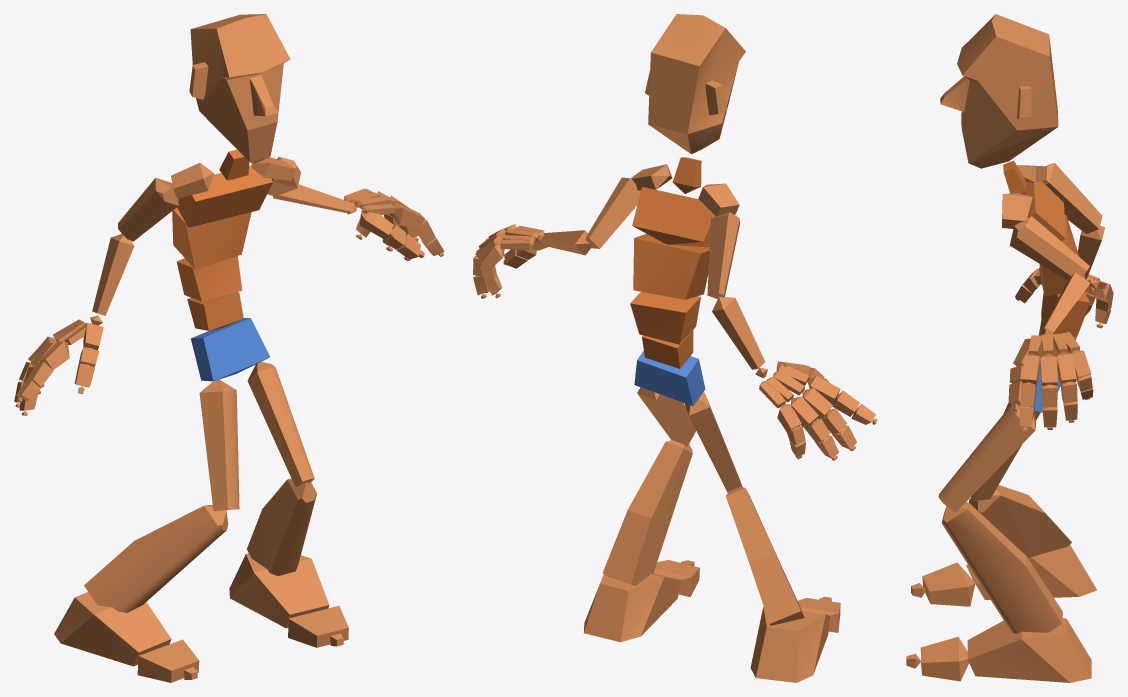
Rendered from gubbe.obj.
3 renders of one model, left to right at view 1: azimuth 30°, elevation 25°; view 2: azimuth 150°, elevation 25°; view 3: azimuth 270°, elevation 25°, orthographic. The views are drawn at different scales.
Visible parts, largest first — view 1: BOPED_Head, BOPED_R_leg, BOPED_R_foot, BOPED_R_foot01, BOPED_L_leg, BOPED_R_legup, BOPED_L_legup, Bone01, Bone05, Bone04, Bone03, BOPED_R_arm_upper (+8 smaller); view 2: BOPED_Head, BOPED_L_leg, BOPED_R_foot01, BOPED_R_foot, BOPED_R_leg, Bone04, Bone05, Bone03, Bone01, BOPED_R_legup, BOPED_R_arm_upper, BOPED_L_arm_upper (+9 smaller); view 3: BOPED_Head, BOPED_L_leg, BOPED_R_foot01, BOPED_R_leg, BOPED_L_legup, BOPED_L_arm_upper, BOPED_R_foot, BOPED_R_arm_upper, BOPED_R_foot_toe01, BOPED_R_foot_toe04, Bone05, BOPED_L_arm_fore (+14 smaller).
Boxes of the visible parts, box(x1,y1,x2,y2) form: BOPED_Head: box(189, 14, 290, 163); BOPED_R_leg: box(84, 505, 228, 612); BOPED_R_foot: box(54, 592, 171, 666); BOPED_R_foot01: box(229, 553, 329, 628); BOPED_L_leg: box(246, 478, 316, 575); BOPED_R_legup: box(199, 379, 239, 510); BOPED_L_legup: box(247, 361, 314, 487); Bone01: box(191, 318, 269, 381); Bone05: box(177, 165, 272, 227); Bone04: box(172, 207, 251, 269); Bone03: box(176, 256, 242, 301); BOPED_R_arm_upper: box(118, 177, 178, 241); BOPED_Head: box(645, 14, 745, 154); BOPED_L_leg: box(602, 440, 692, 585); BOPED_R_foot01: box(584, 573, 681, 642); BOPED_R_foot: box(750, 606, 830, 682); BOPED_R_leg: box(725, 486, 804, 625); Bone04: box(633, 233, 709, 299); Bone05: box(632, 187, 715, 247); Bone03: box(630, 291, 700, 344); Bone01: box(634, 350, 705, 405); BOPED_R_legup: box(684, 392, 742, 492); BOPED_R_arm_upper: box(707, 212, 740, 299); BOPED_L_arm_upper: box(585, 177, 641, 248); BOPED_Head: box(940, 14, 1058, 168); BOPED_L_leg: box(942, 502, 1062, 633); BOPED_R_foot01: box(967, 618, 1091, 682); BOPED_R_leg: box(969, 485, 1071, 558); BOPED_L_legup: box(938, 404, 1036, 512); BOPED_L_arm_upper: box(1009, 216, 1089, 280); BOPED_R_foot: box(966, 545, 1096, 599); BOPED_R_arm_upper: box(1042, 163, 1102, 233); BOPED_R_foot_toe01: box(922, 562, 975, 606); BOPED_R_foot_toe04: box(920, 636, 968, 681); Bone05: box(1024, 181, 1065, 241); BOPED_L_arm_fore: box(1040, 272, 1090, 334).
Bounding box in the file's own units: 130 × 183 × 55.23.
